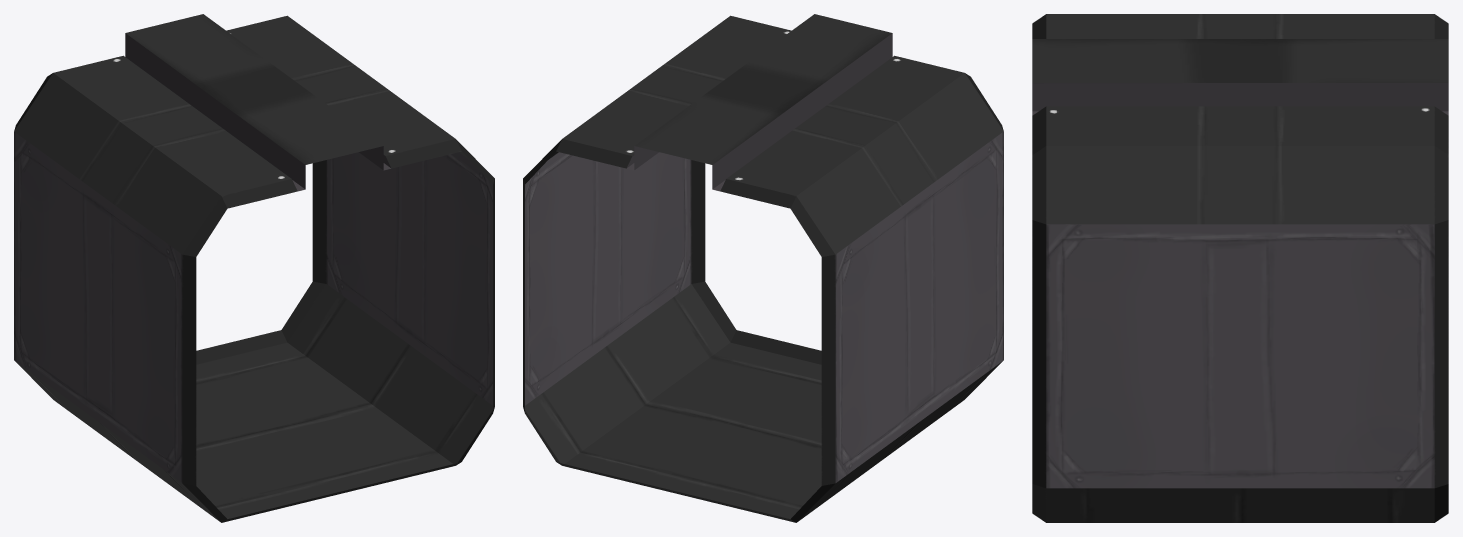
The model's file is pathway01.fbx.
The picture shows the model from 3 angles, left to right: view 1: azimuth 30°, elevation 25°; view 2: azimuth 150°, elevation 25°; view 3: azimuth 270°, elevation 25°; orthographic projection. The views are drawn at different scales.
Visible parts, largest first — view 1: pathway01; view 2: pathway01; view 3: pathway01.
Boxes of the visible parts, x1,y1,x2,y2 form: pathway01: (14,14,494,522); pathway01: (523,14,1003,522); pathway01: (1032,14,1448,522).
Bounding box in the file's own units: 2 × 2.1 × 2.
Materials: 1 (1 with a texture image).
